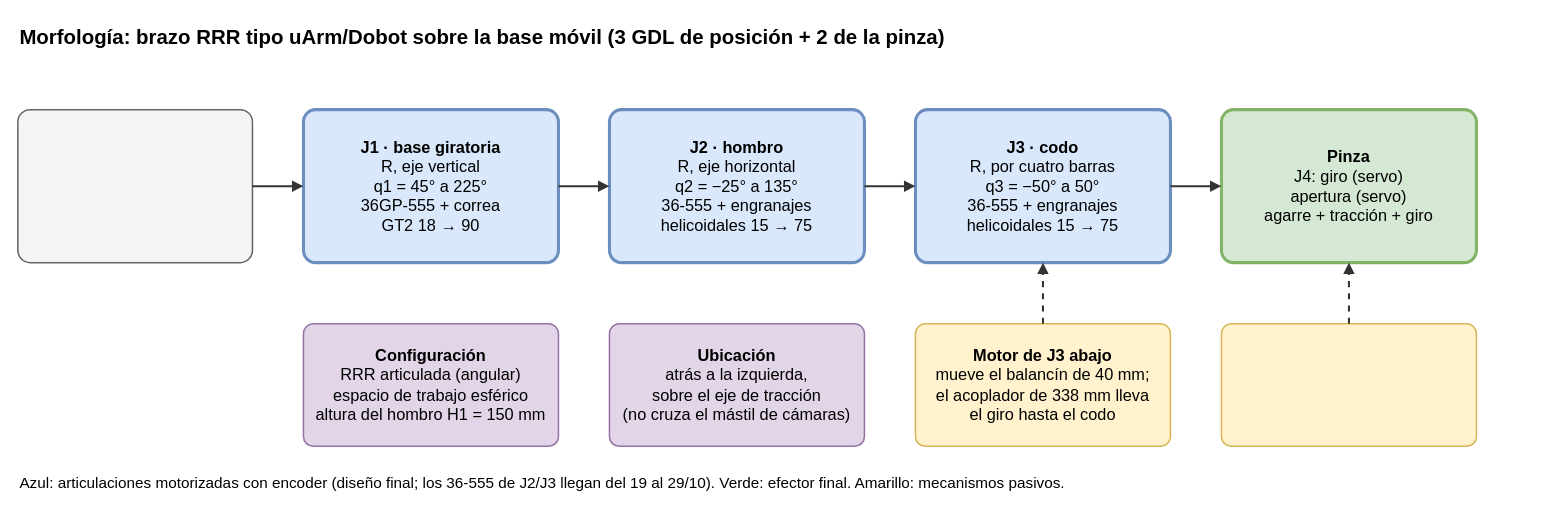
This 1566x514 diagram has some shape labels left out. Here are the shapes that lost their labels. From the top down, the centre of each, then its label:
At point (135, 185): "Base móvil (R2) caja de madera en T tracción diferencial (no evalúa R1)".
At point (1348, 385): "Paralelogramo mantiene la herramienta siempre horizontal, en la dirección de J1".
